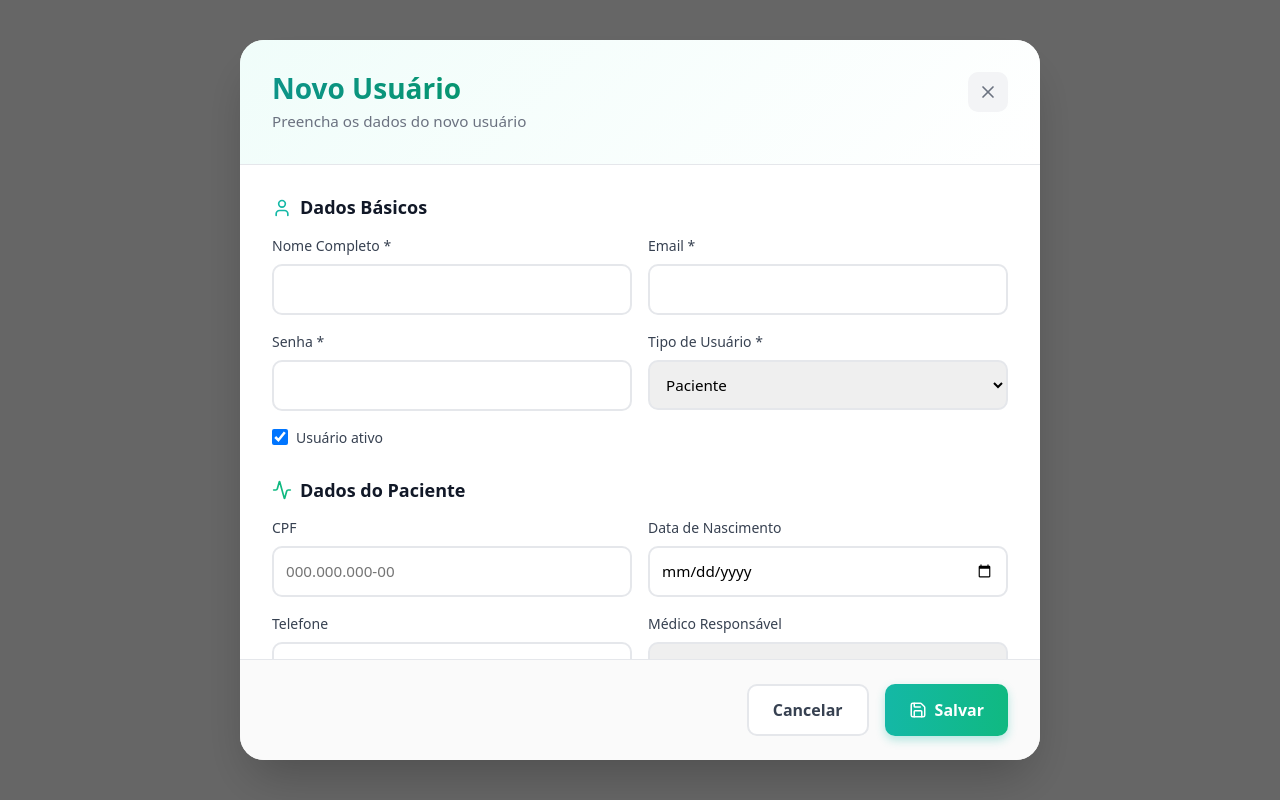
Test: UserModal - Submissão e Validação › exibe erro se Nome ou Email estiverem vazios
This screenshot has width=1280, height=800.
In the password field labelled "Senha *": x=452, y=385 [272,360,632,411], type "123456"
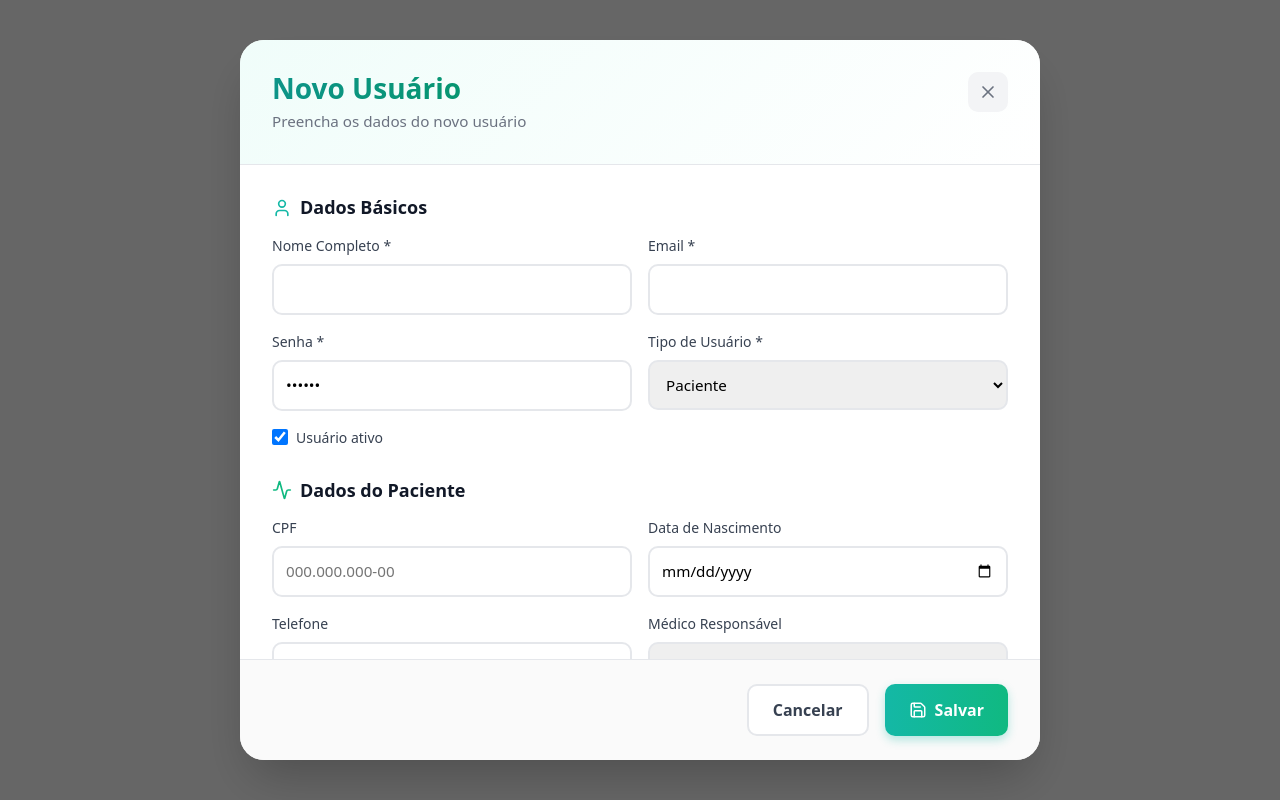
Click the button "Salvar": x=946, y=710 [885,684,1008,736]
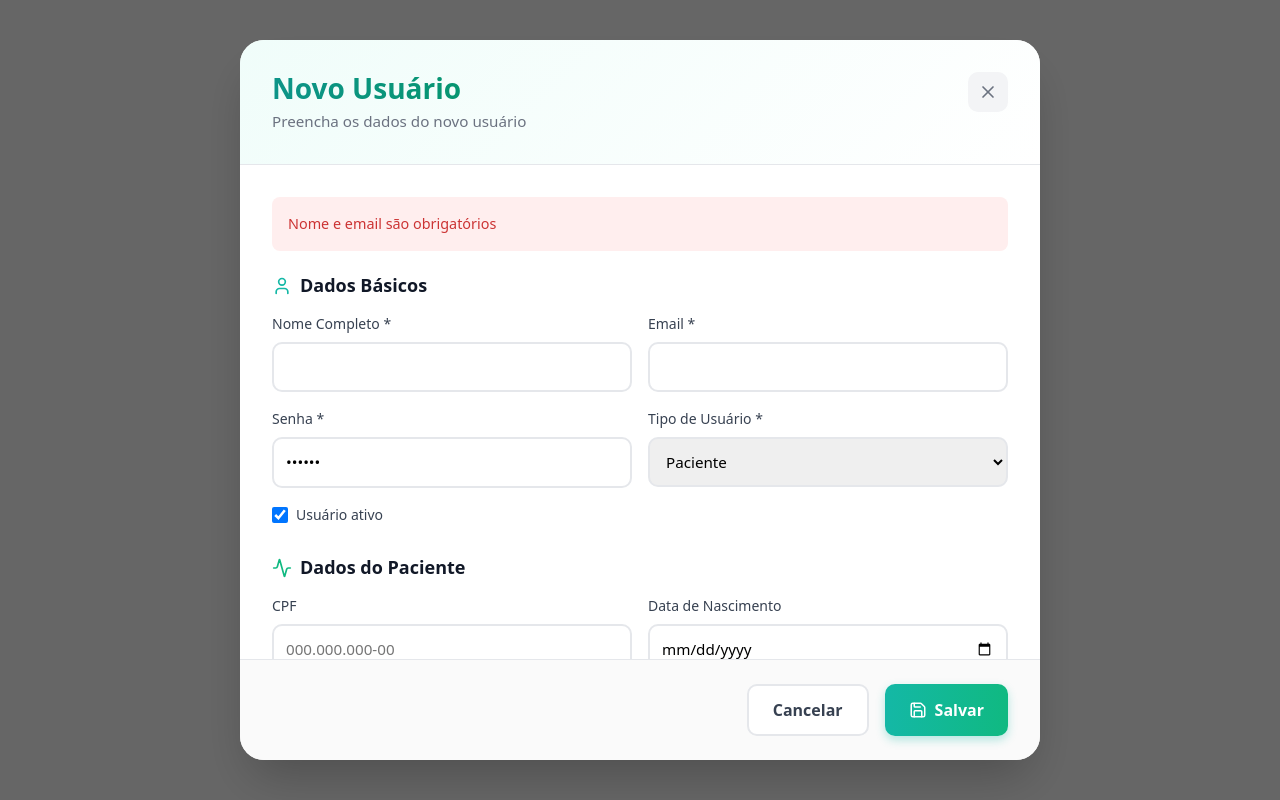
Check: the text "Nome e email são obrigatórios" is shown, box [272,197,1008,251]
